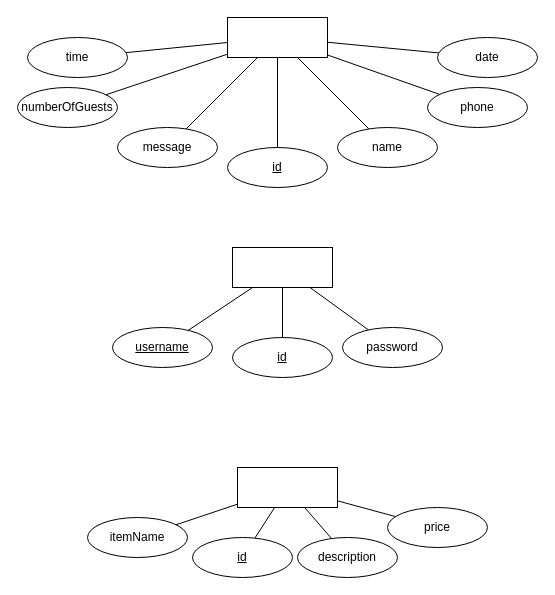
This 555x595 diagram has some shape labels left out. Here are the shapes that lost their labels. From the top down, the centre of each, then its label:
At pixel 277 37: "bookings".
At pixel 282 267: "users".
At pixel 287 487: "menuitems".
